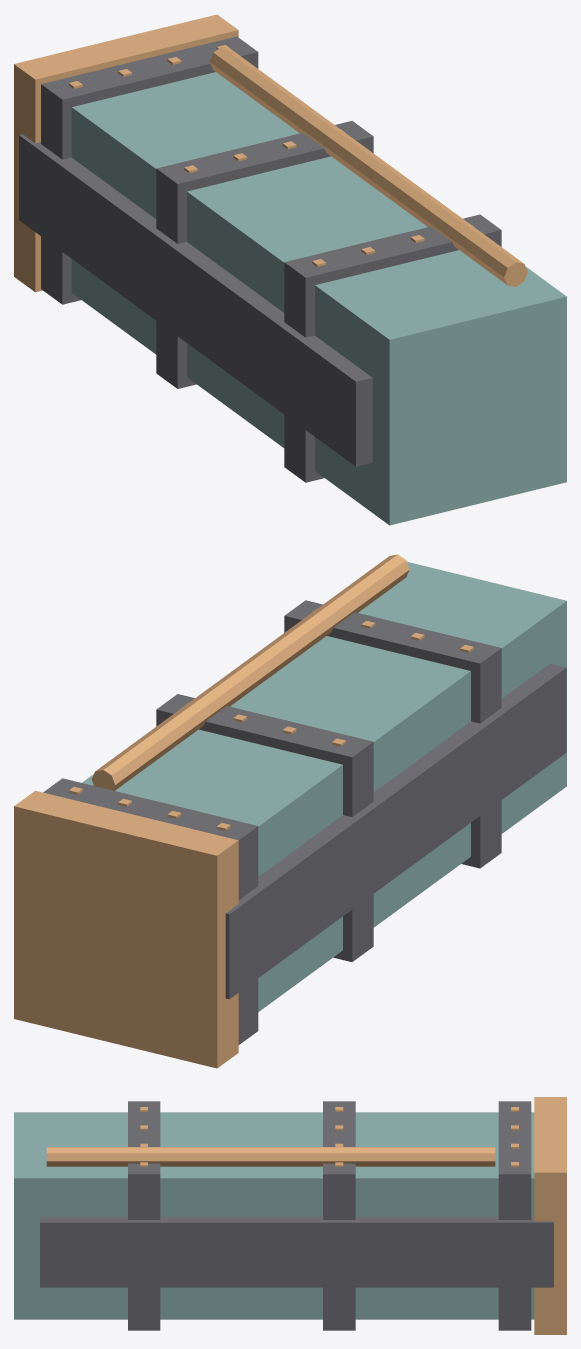
File: drill_barrel.glb
The picture shows the model from 3 angles, top to bottom: view 1: azimuth 30°, elevation 25°; view 2: azimuth 150°, elevation 25°; view 3: azimuth 270°, elevation 25°; orthographic projection. The views are drawn at different scales.
Visible parts, largest first — view 1: DrillBarrel; view 2: DrillBarrel; view 3: DrillBarrel.
Part boxes in pixels (<box>): DrillBarrel: <box>14,14,566,525</box>; DrillBarrel: <box>14,554,566,1068</box>; DrillBarrel: <box>14,1097,566,1334</box>.
Size of the model in its own units: 0.57 by 0.582 by 1.7.
